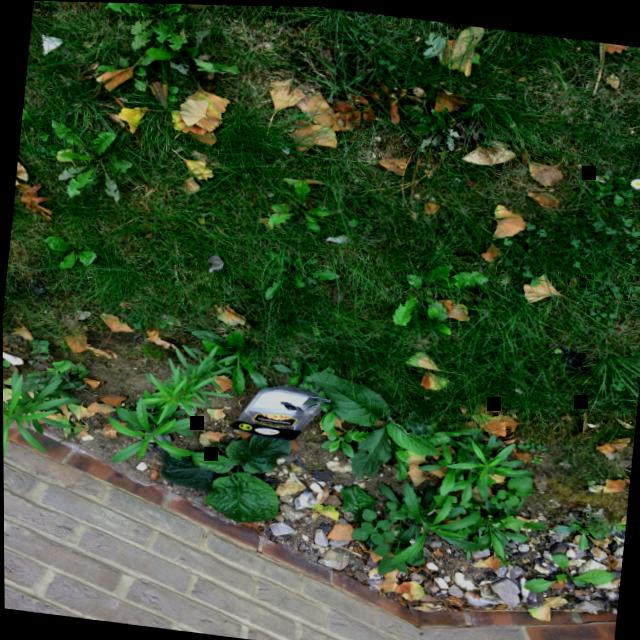Disposable food container: (230, 383, 329, 437)
Plastic film: (230, 397, 329, 437), (205, 252, 221, 270)
Unlabeled litter: (41, 32, 60, 55)
